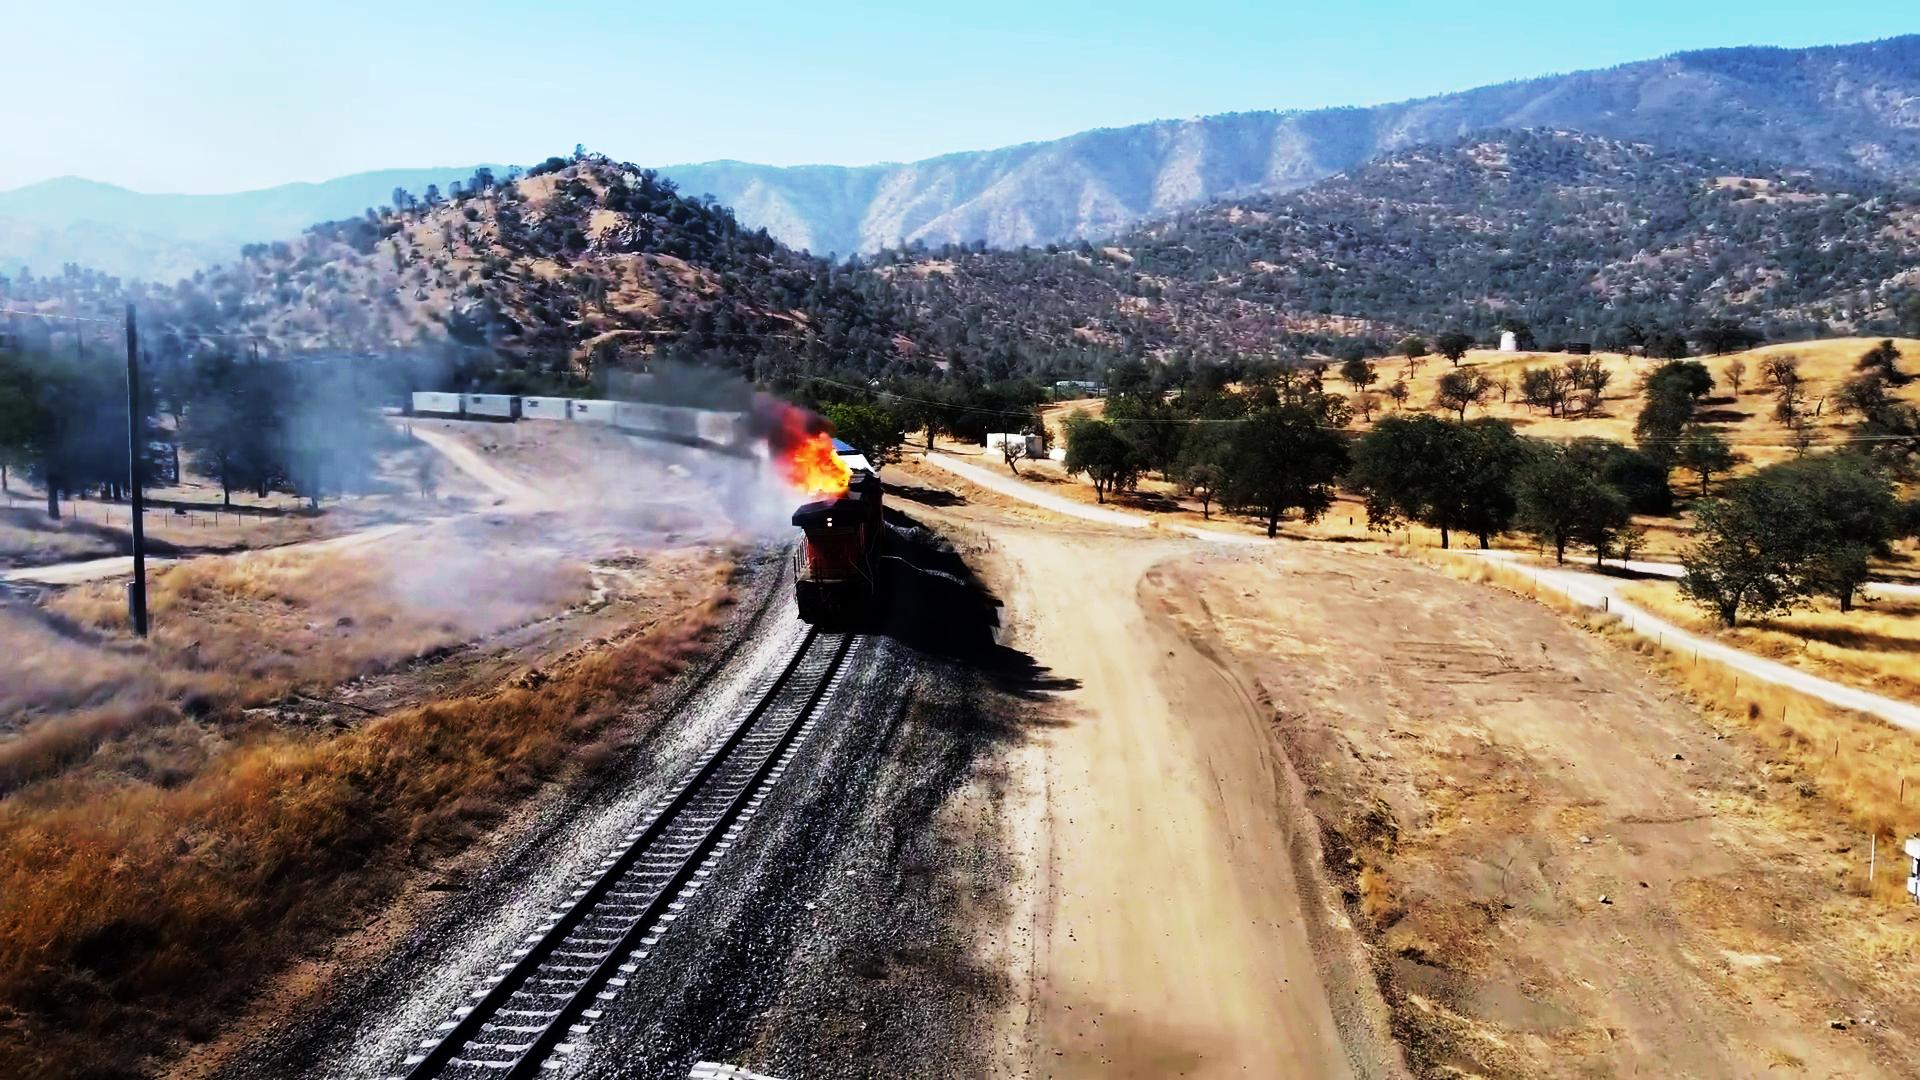fire: (756, 421, 869, 514)
